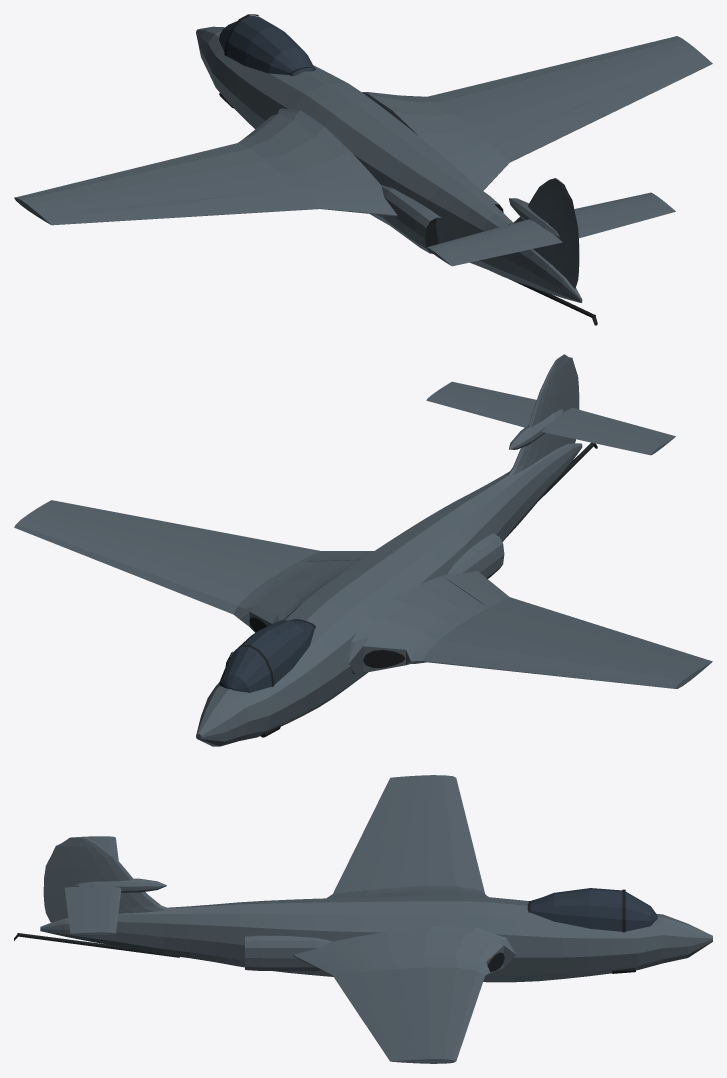
Rendered from seahawk.glb.
3 renders of one model, top to bottom at view 1: azimuth 30°, elevation 25°; view 2: azimuth 150°, elevation 25°; view 3: azimuth 270°, elevation 25°, orthographic. The views are drawn at different scales.
Parts seen in each view (by area): view 1: Fuselage, Wing L, Wing R, Cockpit Glass, Flap R, Stabilizer L, Jet Pipe Fairings, Flap L, Aileron R, Rudder, Aileron L, Stabilizer R (+4 smaller); view 2: Fuselage, Wing L, Wing R, Cockpit Glass, Vertical Fin, Stabilizer L, Stabilizer R, Jet Pipe Fairings, Flap R, Aileron R, Flap L, Aileron L (+4 smaller); view 3: Fuselage, Wing R, Wing L, Cockpit Glass, Vertical Fin, Jet Pipe Fairings, Rudder, Stabilizer R, Flap L, Aileron L, Flap R, Aileron R (+3 smaller).
Part boxes in pixels (box(x1,y1,x2,y2)): Fuselage: box(196, 26, 582, 302); Wing L: box(14, 108, 397, 225); Wing R: box(362, 36, 712, 190); Cockpit Glass: box(219, 16, 314, 75); Flap R: box(490, 111, 582, 161); Stabilizer L: box(426, 219, 550, 260); Jet Pipe Fairings: box(380, 185, 503, 253); Flap L: box(208, 189, 318, 214); Aileron R: box(574, 69, 681, 123); Rudder: box(547, 182, 579, 288); Aileron L: box(82, 200, 213, 222); Stabilizer R: box(574, 192, 666, 226); Fuselage: box(196, 443, 582, 746); Wing L: box(348, 571, 712, 688); Wing R: box(14, 500, 373, 632); Cockpit Glass: box(219, 620, 314, 692); Vertical Fin: box(507, 356, 564, 475); Stabilizer L: box(542, 414, 667, 455); Stabilizer R: box(426, 387, 533, 427); Jet Pipe Fairings: box(448, 533, 504, 578); Flap R: box(208, 532, 318, 560); Aileron R: box(82, 508, 213, 538); Flap L: box(490, 597, 581, 628); Aileron L: box(575, 622, 681, 657); Fuselage: box(40, 896, 712, 982); Wing R: box(293, 926, 516, 1063); Wing L: box(327, 775, 488, 898); Cockpit Glass: box(527, 888, 657, 931); Vertical Fin: box(72, 837, 168, 913); Jet Pipe Fairings: box(245, 935, 332, 970); Rudder: box(43, 837, 77, 922); Stabilizer R: box(84, 886, 121, 934); Flap L: box(333, 849, 381, 893); Aileron L: box(355, 793, 400, 847); Flap R: box(333, 972, 382, 1006); Aileron R: box(355, 1006, 400, 1048).
Size of the model in its own units: 11.8 by 2.71 by 12.28.
